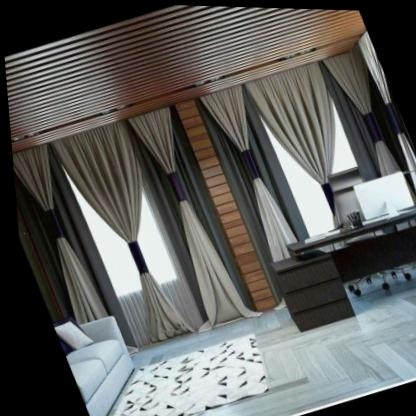Curtains: (6, 97, 254, 371), (202, 42, 416, 265)
Wooden floor: (126, 266, 416, 416)
